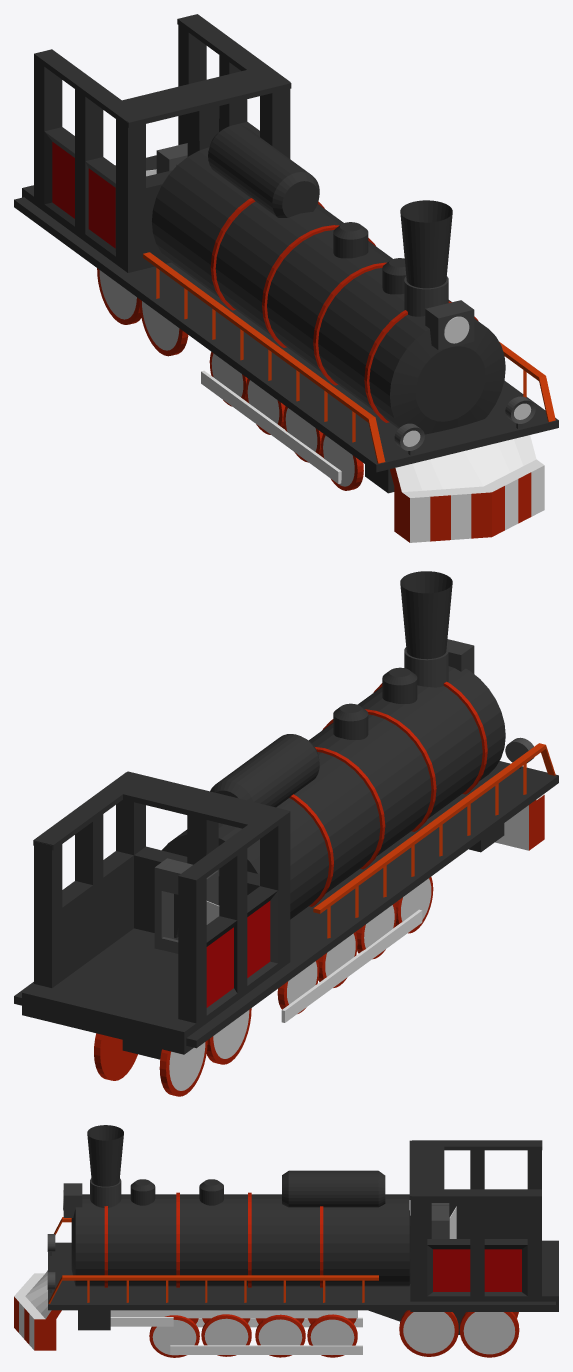
The model's file is parovoZ3.fbx.
3 renders of one model, top to bottom at view 1: azimuth 30°, elevation 25°; view 2: azimuth 150°, elevation 25°; view 3: azimuth 270°, elevation 25°, orthographic. The views are drawn at different scales.
Visible parts, largest first — view 1: Cylinder, Cube.002, Cube, Cube.009, Cylinder.008, Cube.010, Cylinder.007, Cube.003, Cylinder.003, Cube.012, Cube.004, Cube.011 (+11 smaller); view 2: Cube.002, Cylinder, Cube, Cylinder.008, Cylinder.007, Cube.010, Cylinder.010, Cylinder.003, Cube.003, Cylinder.005, Cube.011, Cube.012 (+11 smaller); view 3: Cylinder, Cube.002, Cube, Cylinder.008, Cube.009, Cylinder.010, Cylinder.012, Cube.004, Cube.003, Cylinder.007, Cube.008, Cube.010 (+16 smaller).
Boxes of the visible parts, box(x1,y1,x2,y2) form: Cylinder: box(152, 147, 505, 434); Cube.002: box(22, 25, 290, 272); Cube: box(14, 197, 558, 472); Cube.009: box(390, 435, 544, 542); Cylinder.008: box(208, 125, 319, 217); Cube.010: box(122, 65, 291, 127); Cylinder.007: box(400, 200, 452, 288); Cube.003: box(143, 252, 555, 463); Cylinder.003: box(210, 198, 478, 422); Cube.012: box(177, 14, 289, 86); Cube.004: box(201, 370, 341, 483); Cube.011: box(34, 49, 144, 126); Cube.002: box(22, 799, 290, 1054); Cylinder: box(161, 666, 505, 919); Cube: box(14, 761, 558, 1048); Cylinder.008: box(210, 734, 319, 807); Cylinder.007: box(400, 571, 452, 659); Cube.010: box(123, 771, 290, 828); Cylinder.010: box(94, 1033, 207, 1096); Cylinder.003: box(289, 681, 487, 906); Cube.003: box(313, 743, 555, 913); Cylinder.005: box(333, 667, 417, 739); Cube.011: box(178, 808, 288, 885); Cube.012: box(33, 772, 145, 850); Cylinder: box(71, 1194, 410, 1286); Cube.002: box(410, 1147, 558, 1311); Cube: box(48, 1242, 555, 1310); Cylinder.008: box(282, 1170, 385, 1207); Cube.009: box(14, 1270, 61, 1350); Cylinder.010: box(459, 1312, 519, 1357); Cylinder.012: box(399, 1310, 458, 1356); Cube.004: box(170, 1317, 362, 1354); Cube.003: box(48, 1217, 378, 1303); Cylinder.007: box(87, 1125, 123, 1186); Cube.008: box(110, 1310, 357, 1318); Cube.010: box(409, 1140, 444, 1199).
Bounding box in the file's own units: 298 × 474 × 1100.
